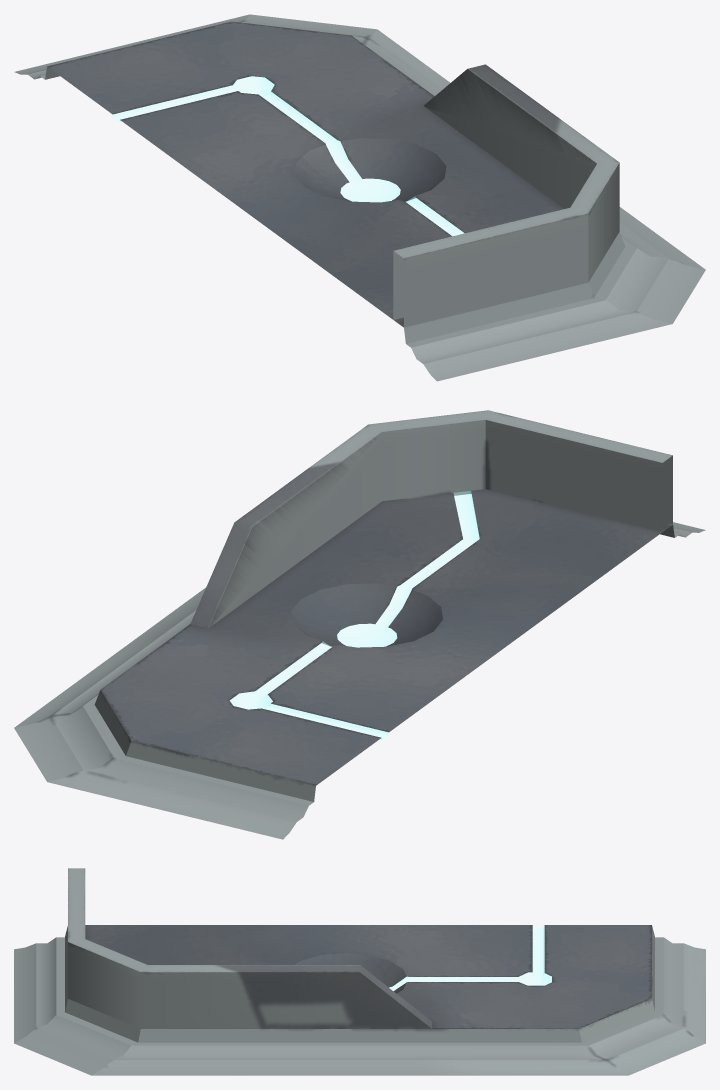
Rendered from SM_Multiswitch_Sidepanel.fbx.
3 views of the same model, one above another, from view 1: azimuth 30°, elevation 25°; view 2: azimuth 150°, elevation 25°; view 3: azimuth 270°, elevation 25° (orthographic). The views are drawn at different scales.
Parts seen in each view (by area): view 1: Bottom.011; view 2: Bottom.011; view 3: Bottom.011.
Boxes of the visible parts, bbox=[...] form: Bottom.011: bbox=[14, 14, 705, 381]; Bottom.011: bbox=[14, 410, 705, 839]; Bottom.011: bbox=[14, 868, 705, 1075].
Bounding box in the file's own units: 0.6525 × 0.195 × 1.51.
